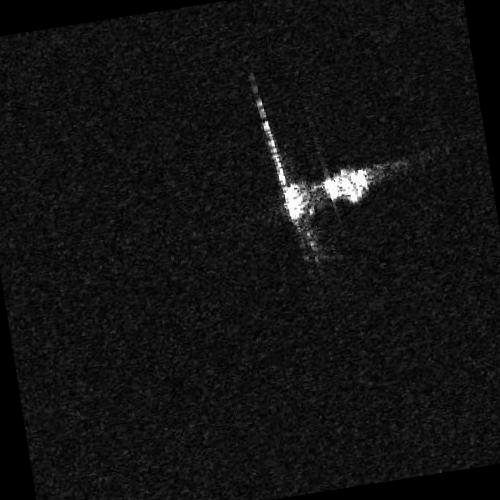ship: (281, 168, 378, 223)
